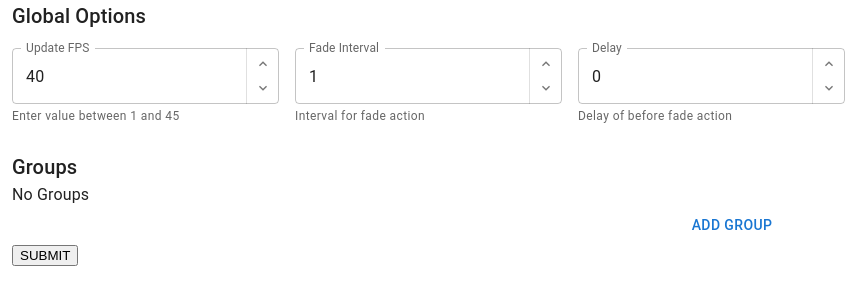
Test: Devices › Components › Delay › Can change value
The width and height of the screenshot is (862, 283).
Step 1. Click the field labelled "Delay" → (695, 76), box [578, 48, 812, 104]
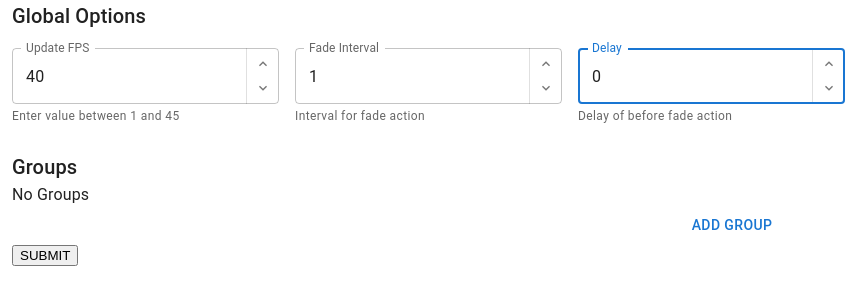
Step 2. Press Arrowup
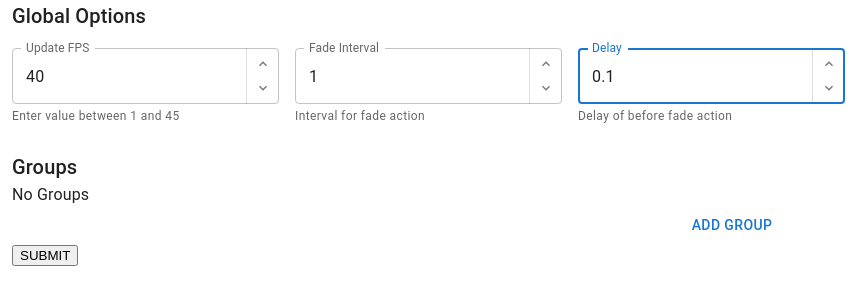
Check: the field labelled "Delay" holds "0.1", box [578, 48, 812, 104]
